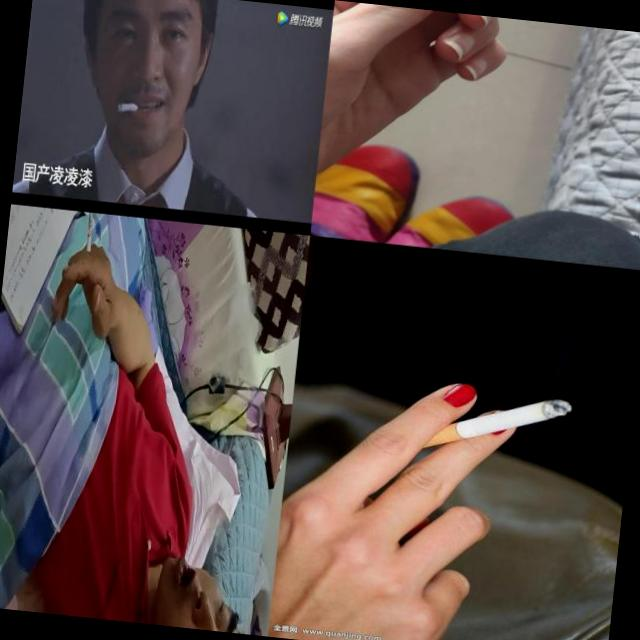cigarette: (408, 382, 574, 463), (80, 212, 95, 287), (116, 102, 140, 115)
